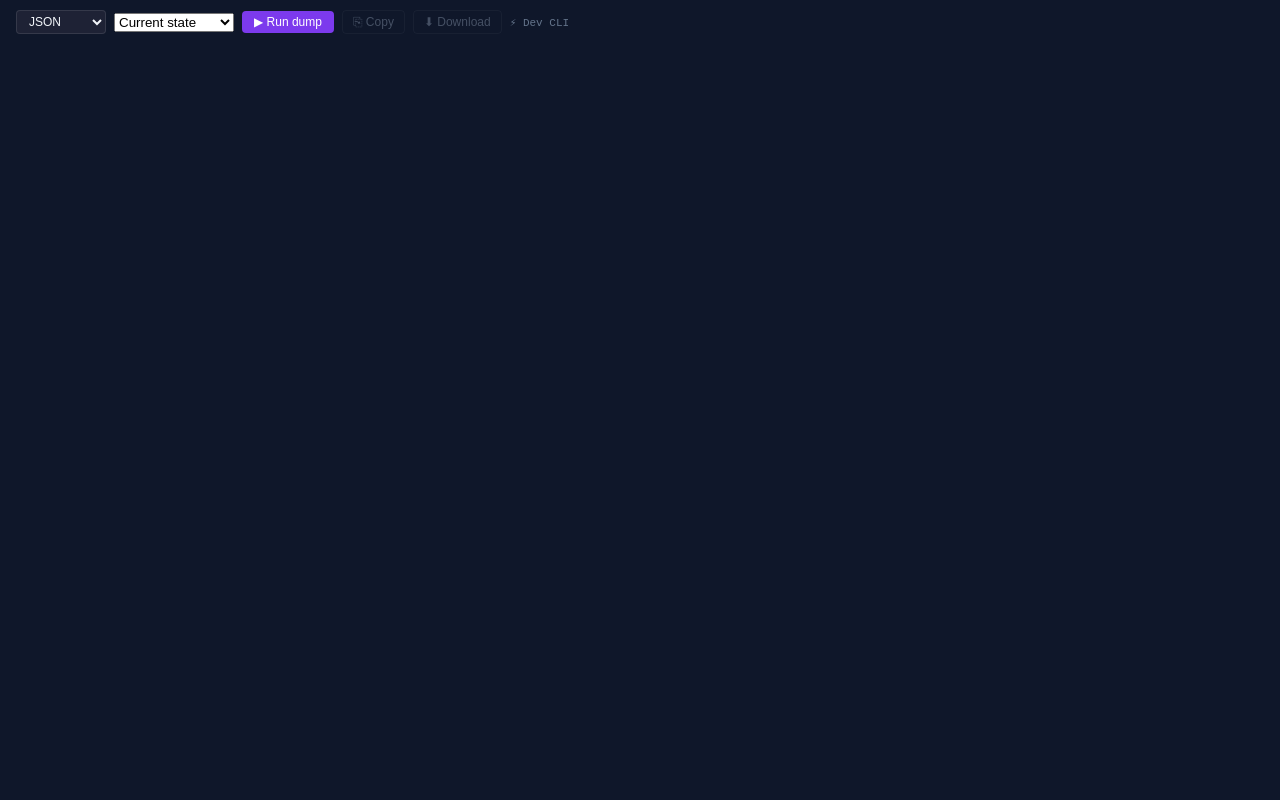
SchemaTab - Dump Panel › Run Dump Button › should display output after successful run
Click the button "▶ Run dump": (288, 22) x1=242 y1=11 x2=334 y2=33
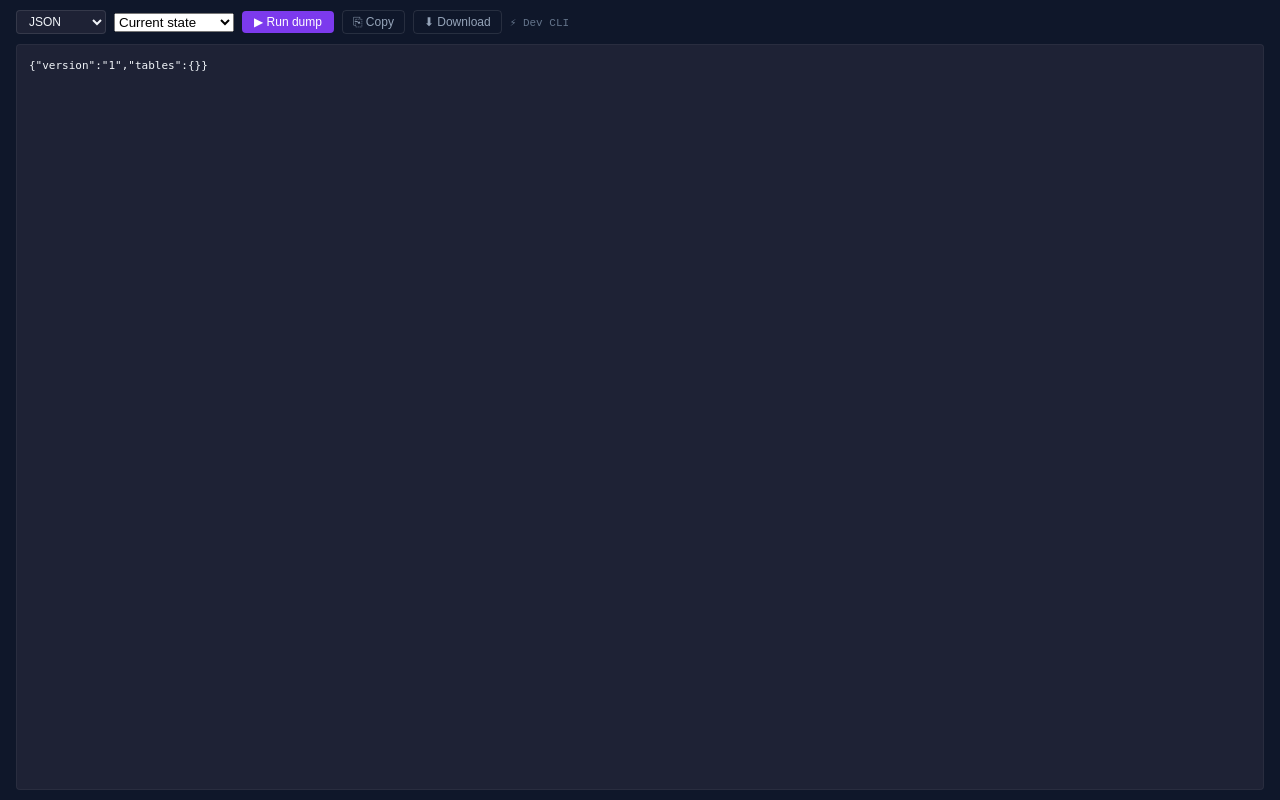
Expected: the text "{\"version\":\"1\",\"tables\":{}}" is shown, x1=29 y1=59 x2=208 y2=72
